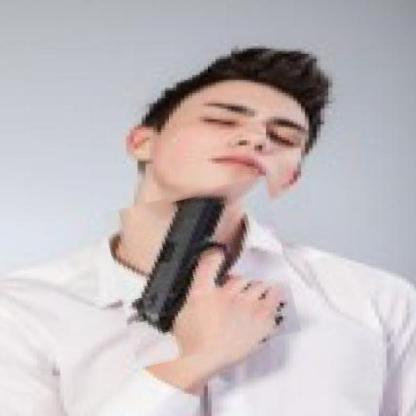handgun: (109, 184, 293, 361)
